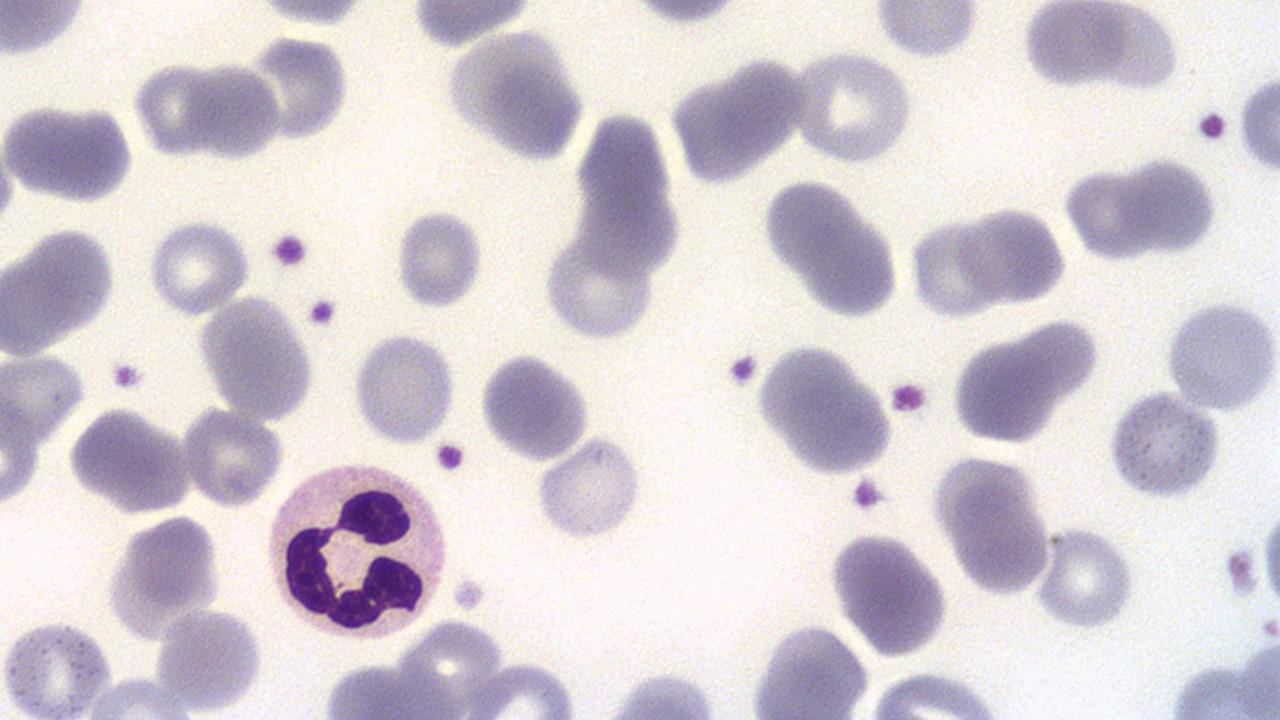Platelets: (444, 29, 590, 166), (526, 437, 648, 548), (387, 204, 488, 313), (1236, 81, 1280, 172), (1250, 514, 1280, 612), (632, 1, 739, 28), (1221, 542, 1259, 603), (885, 374, 932, 418), (266, 228, 312, 271), (847, 473, 890, 514), (1192, 104, 1232, 147), (448, 573, 486, 615), (724, 348, 760, 392), (107, 357, 148, 395), (305, 292, 342, 331), (433, 438, 469, 476)
RBC: (937, 453, 1053, 602), (194, 290, 318, 423), (791, 46, 917, 166), (1161, 294, 1280, 412), (348, 326, 460, 448), (538, 233, 658, 342), (742, 618, 874, 716), (530, 432, 645, 544), (0, 610, 117, 718), (1033, 520, 1141, 632), (958, 201, 1070, 308), (180, 406, 286, 510), (145, 214, 252, 317), (1119, 155, 1219, 259), (908, 213, 998, 323), (191, 58, 281, 166), (1061, 162, 1153, 266), (132, 58, 216, 160), (1096, 0, 1182, 96), (862, 669, 1005, 717), (0, 2, 96, 62), (1235, 70, 1280, 180)
WBC: (40, 0, 797, 720), (578, 18, 1280, 720), (0, 63, 440, 720), (260, 456, 455, 648), (755, 172, 904, 323), (752, 332, 902, 480), (434, 25, 592, 164), (932, 448, 1056, 602), (823, 526, 953, 658), (2, 223, 124, 362), (1161, 294, 1280, 413), (1104, 386, 1226, 502), (4, 100, 137, 205), (947, 329, 1064, 448), (350, 324, 461, 448), (477, 348, 595, 463), (530, 433, 650, 546), (744, 620, 876, 716), (0, 613, 119, 718), (1016, 1, 1134, 94), (1122, 151, 1218, 260), (868, 0, 988, 62), (1, 0, 98, 62)
